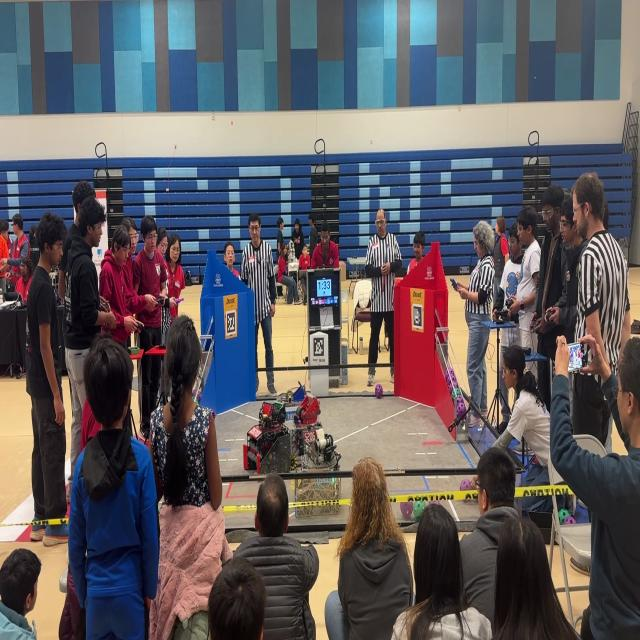artifact_green: (451, 388, 461, 402)
artifact_purple: (445, 367, 457, 394), (447, 367, 458, 390), (414, 501, 426, 522), (456, 396, 466, 419), (445, 371, 454, 394), (401, 502, 413, 519), (559, 509, 570, 522), (460, 479, 471, 491), (451, 388, 461, 401), (563, 516, 576, 525), (375, 383, 382, 398), (435, 500, 440, 505)
